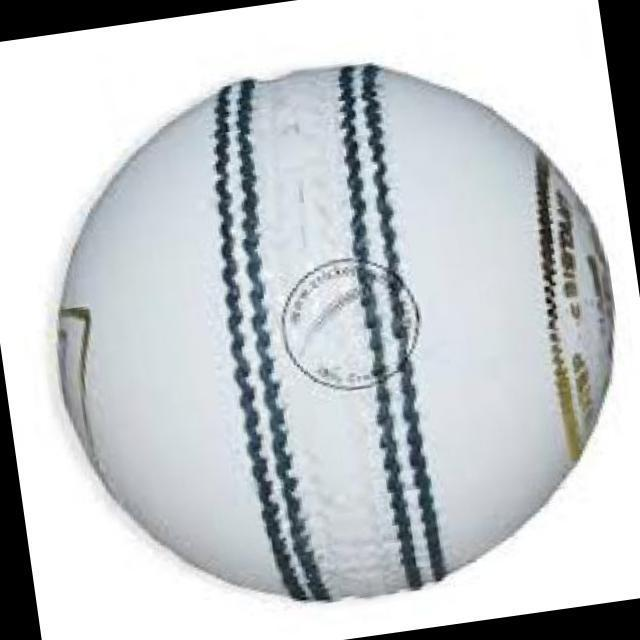-: (31, 57, 634, 620)
